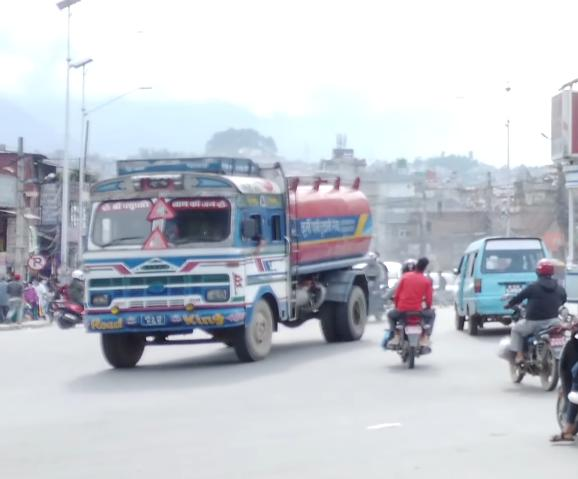bike: (502, 297, 564, 390), (384, 299, 436, 371)
truck: (80, 156, 380, 367)
van: (451, 233, 549, 338)
